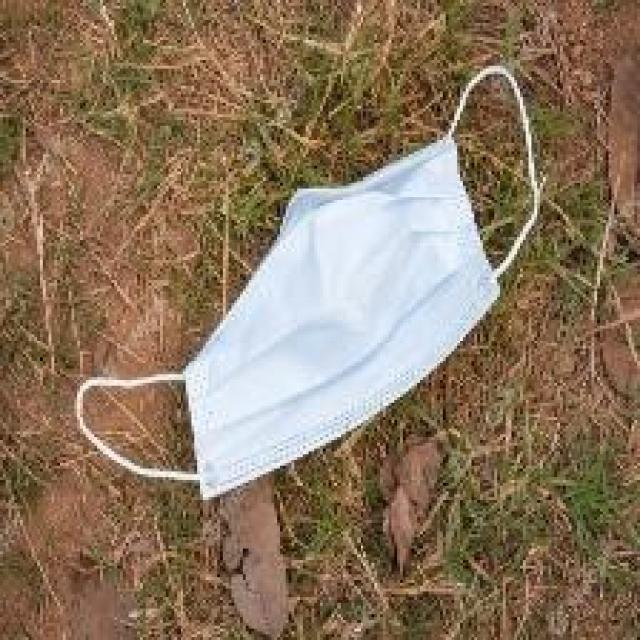Mask: (63, 64, 555, 512)
